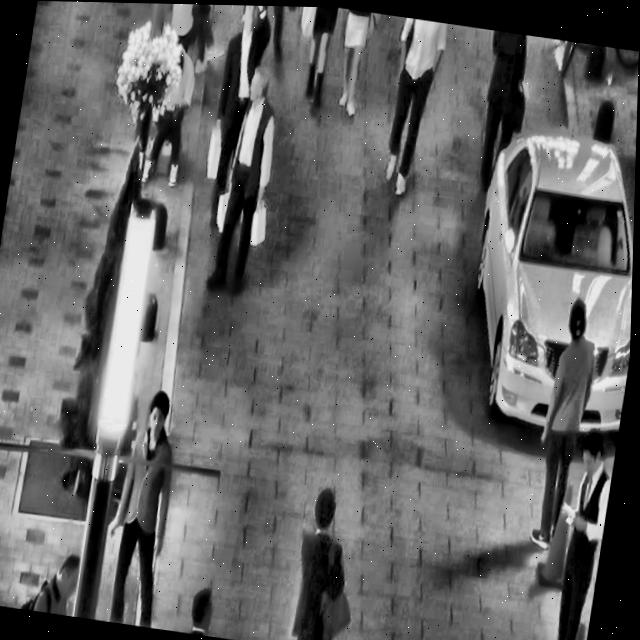light_vehicle: (447, 101, 638, 446)
